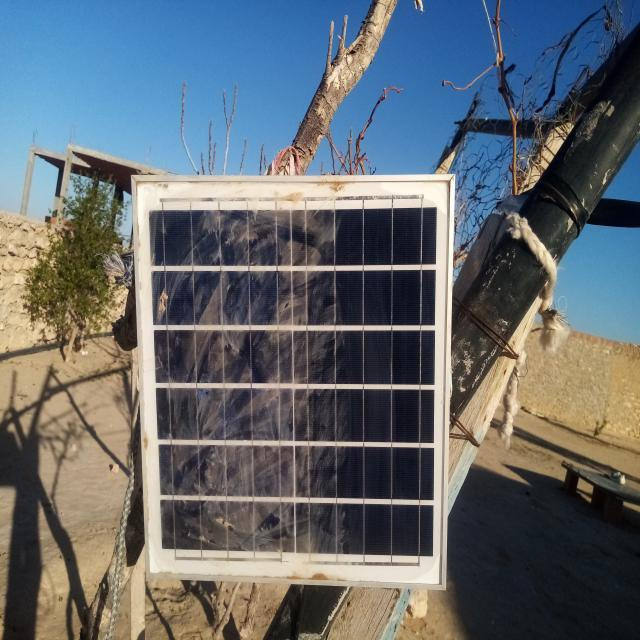faulty: (135, 178, 452, 591)
